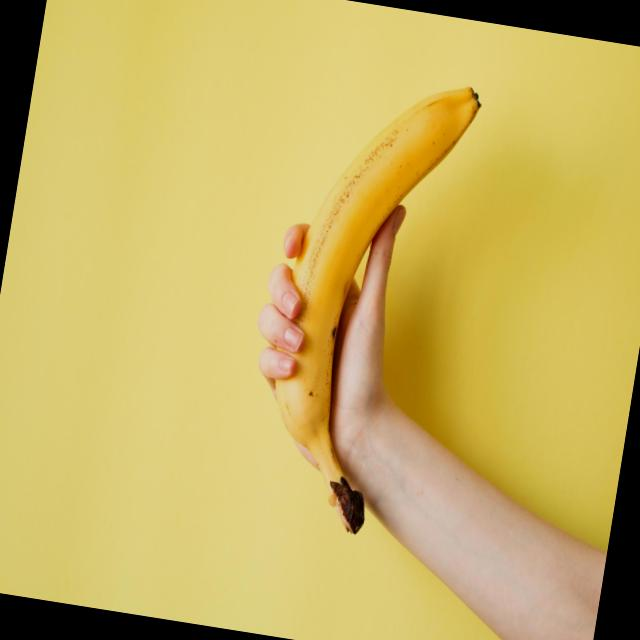banana: (240, 62, 485, 544)
